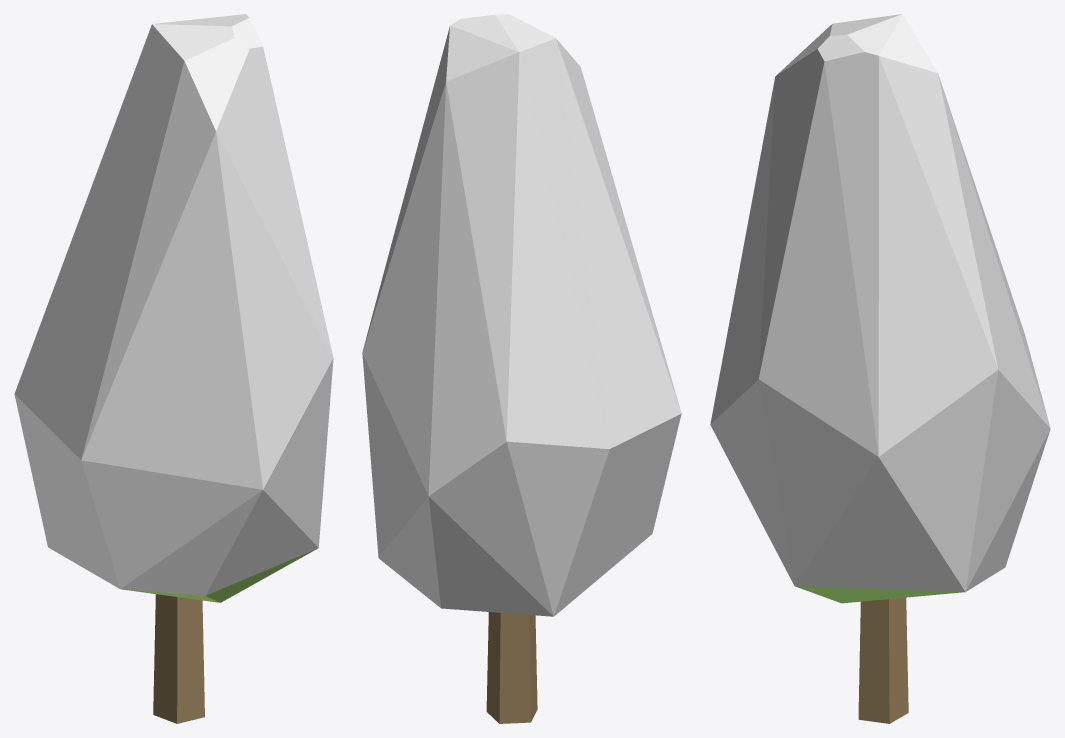
The model's file is Thuja_Tree_s_Snow_03.fbx.
3 views of the same model, side by side, from view 1: azimuth 30°, elevation 25°; view 2: azimuth 150°, elevation 25°; view 3: azimuth 270°, elevation 25° (orthographic). The views are drawn at different scales.
Parts seen in each view (by area): view 1: Thuja_Tree_s_Snow_03; view 2: Thuja_Tree_s_Snow_03; view 3: Thuja_Tree_s_Snow_03.
Part boxes in pixels (box(x1,y1,x2,y2)): Thuja_Tree_s_Snow_03: box(14, 14, 333, 723); Thuja_Tree_s_Snow_03: box(362, 14, 681, 723); Thuja_Tree_s_Snow_03: box(710, 14, 1050, 723).
Bounding box in the file's own units: 108 × 252 × 112.
